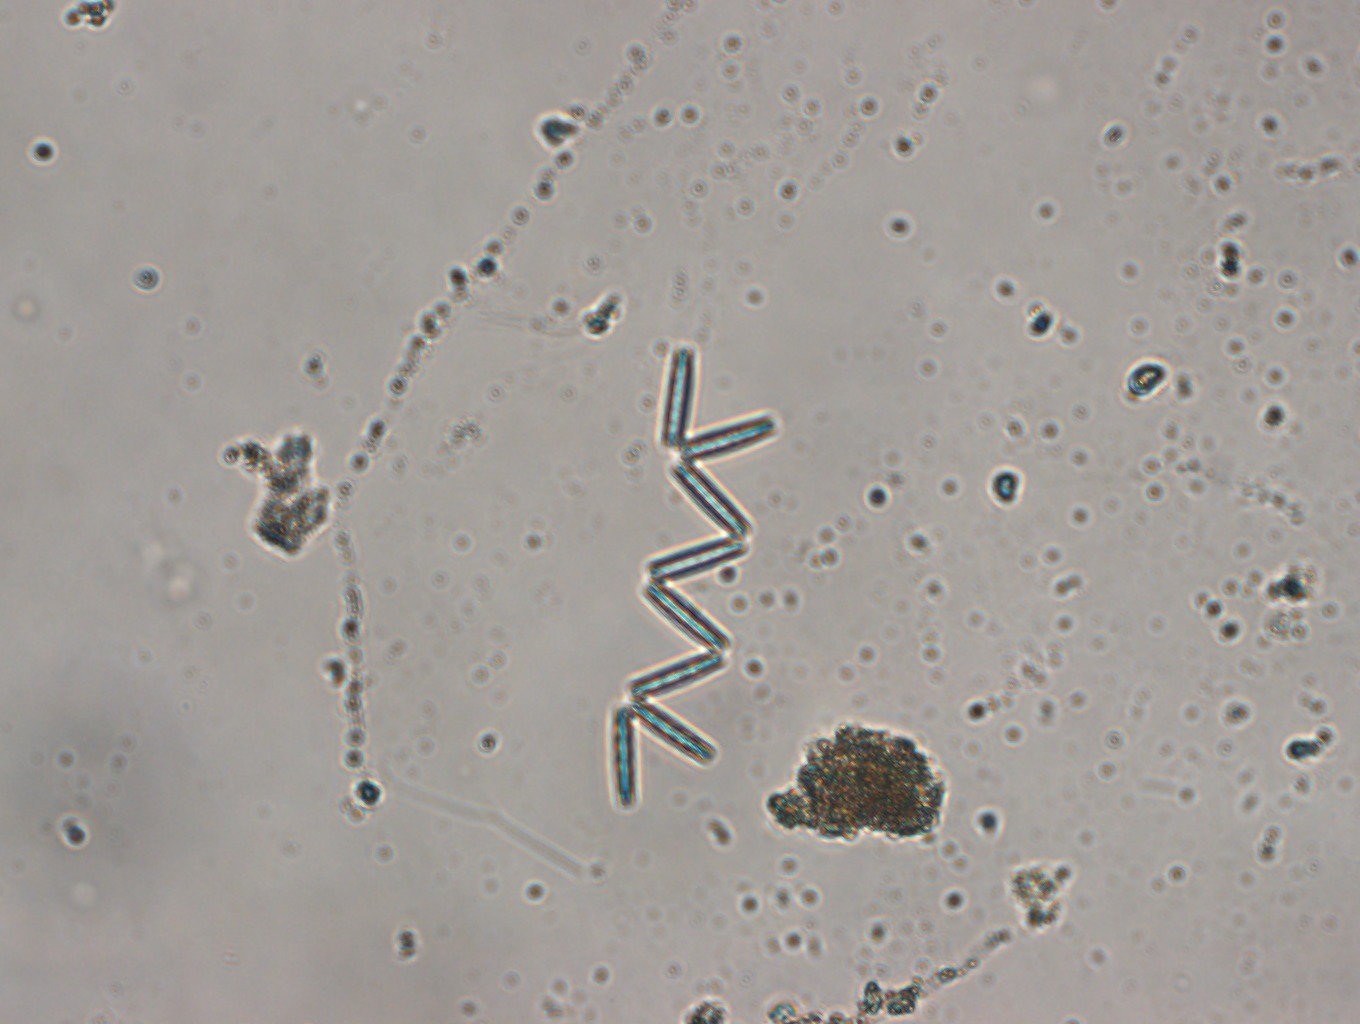thalassionema nitzschioides: (609, 346, 776, 805)
